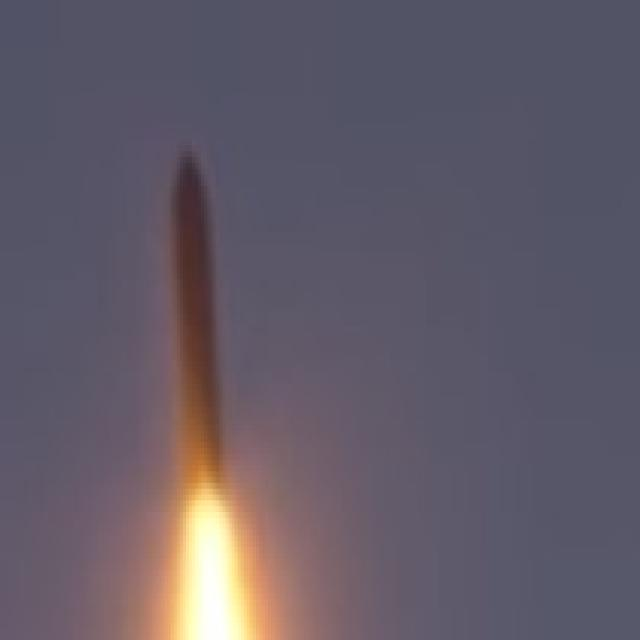missile: (164, 141, 231, 501)
